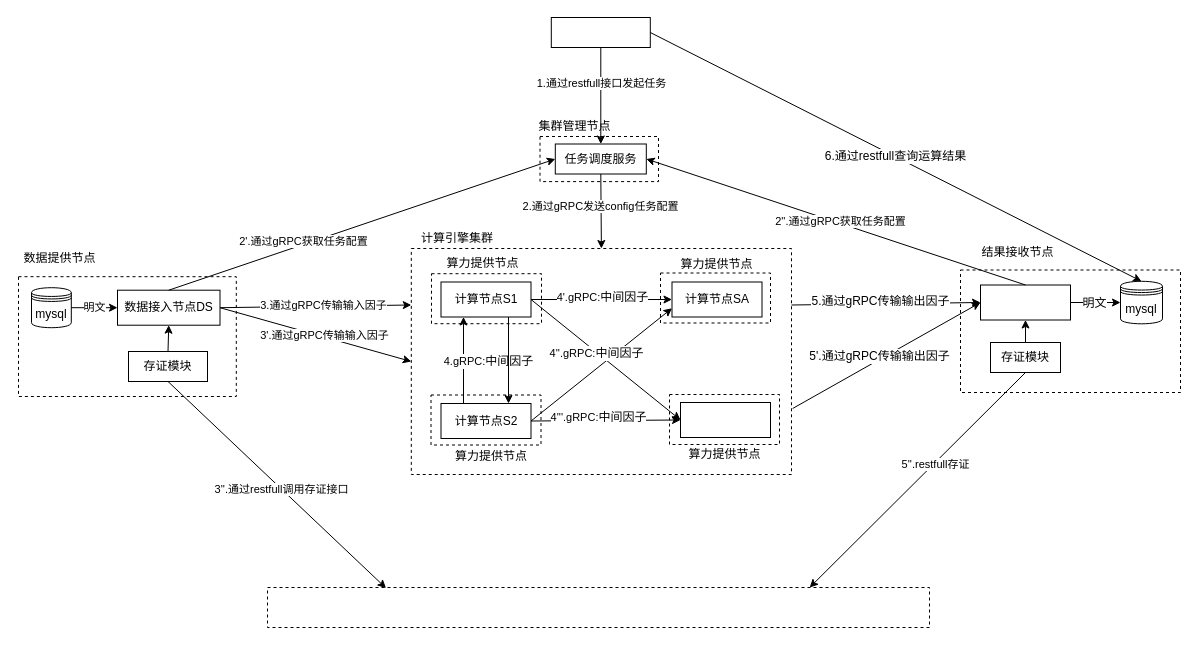
The diagram is 1198 pixels wide and 645 high, and some of its shapes have lost their labels. Each missing label, with the centre of its shape:
"Hyperledger Fabric联盟链（存证记录）" belongs at pixel 598 607.
"数据输出节点" belongs at pixel 1025 302.
"某业务系统" belongs at pixel 600 32.
"计算节点SB" belongs at pixel 725 420.
